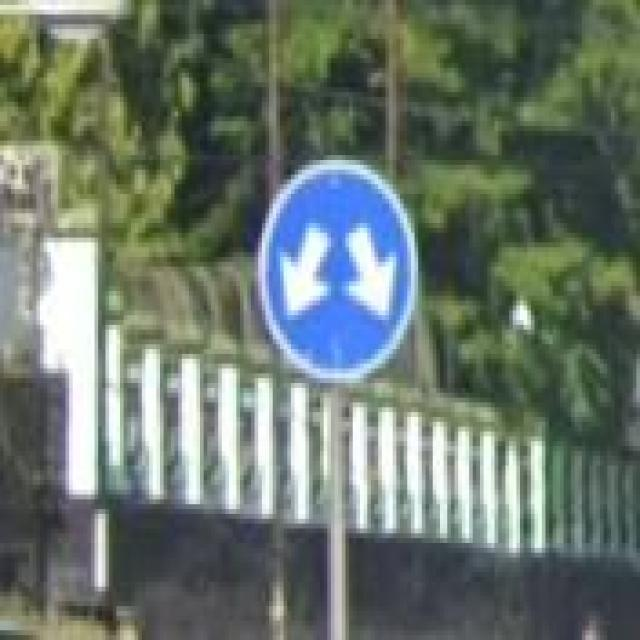traffic sign: (255, 155, 418, 378)
